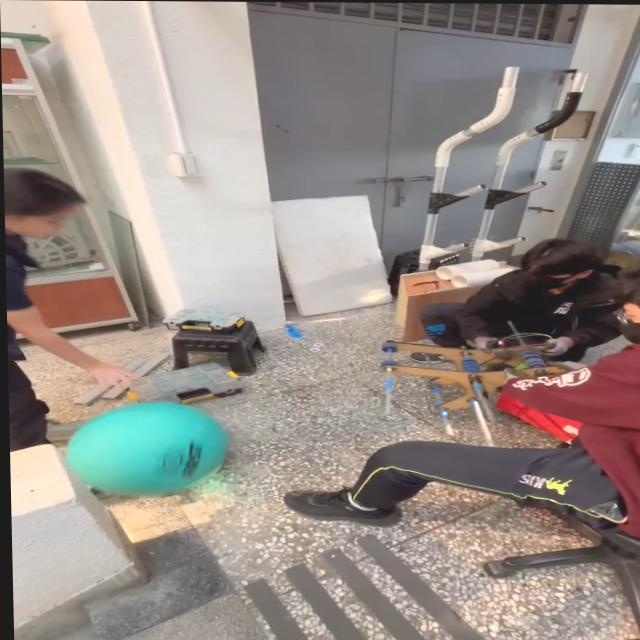ALGAE: (61, 399, 231, 499)
